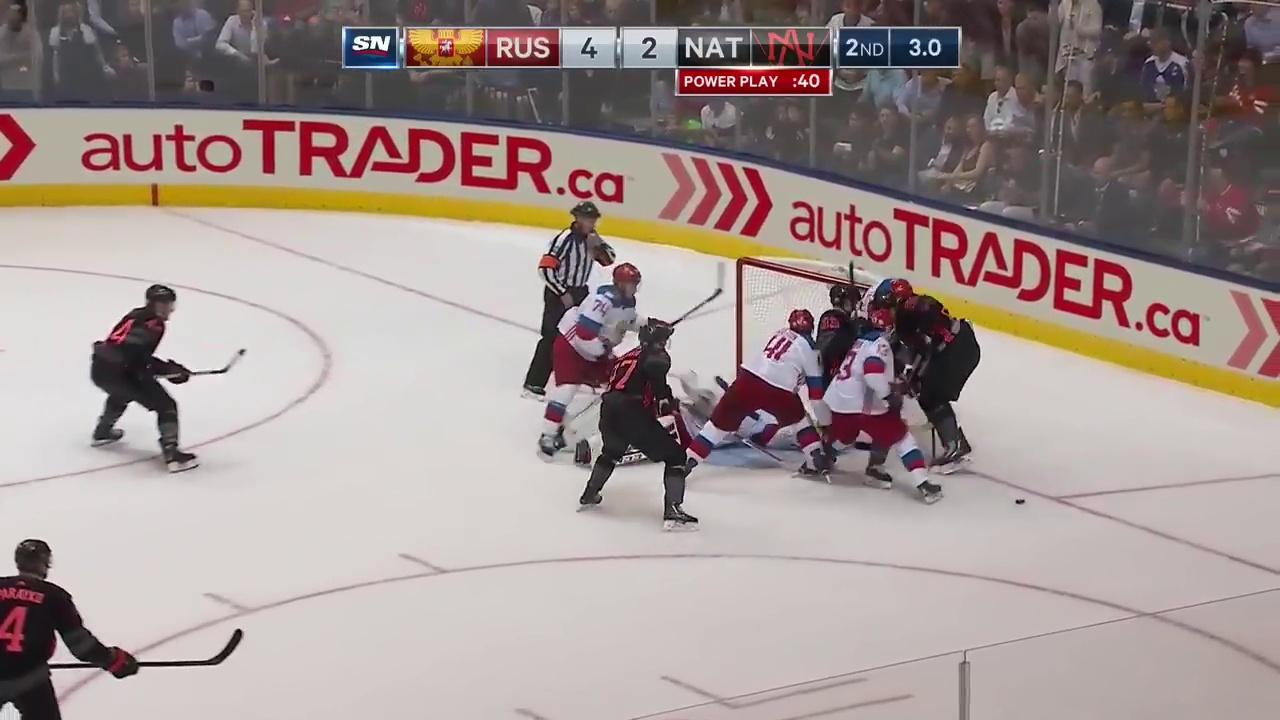ball: (1014, 499, 1026, 505)
